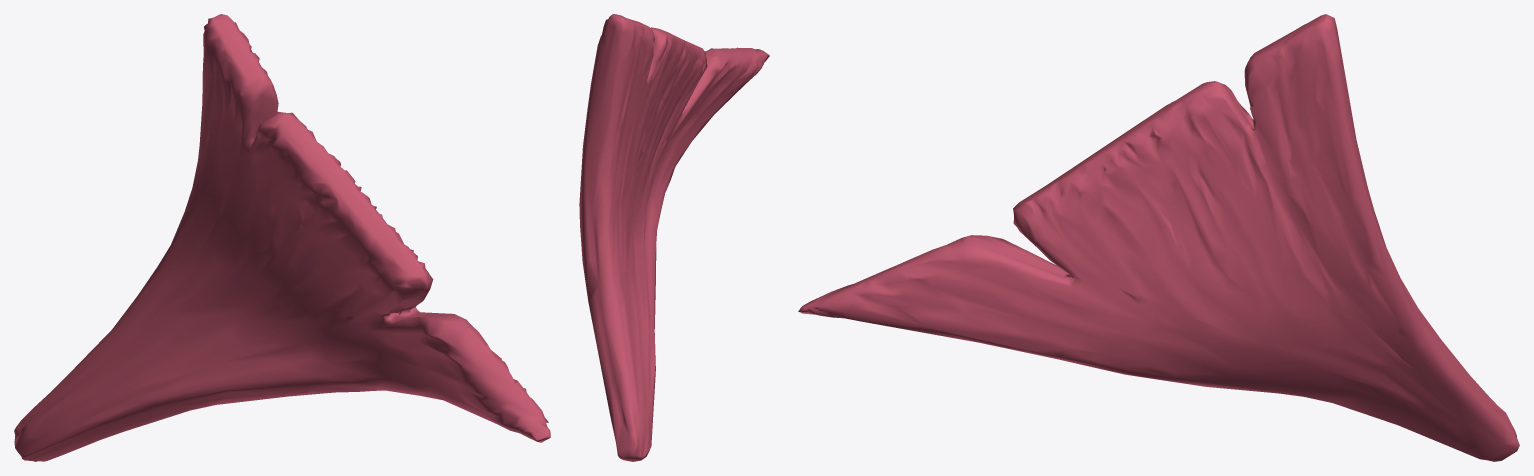
3 renders of one model, left to right at view 1: azimuth 30°, elevation 25°; view 2: azimuth 150°, elevation 25°; view 3: azimuth 270°, elevation 25°, orthographic. The views are drawn at different scales.
Parts seen in each view (by area): view 1: 左侧甲会厌肌; view 2: 左侧甲会厌肌; view 3: 左侧甲会厌肌.
Part boxes in pixels (<box>): 左侧甲会厌肌: <box>14,14,550,461</box>; 左侧甲会厌肌: <box>579,14,769,461</box>; 左侧甲会厌肌: <box>798,14,1519,461</box>.
Bounding box in the file's own units: 0.0125 × 0.0277 × 0.0367.
